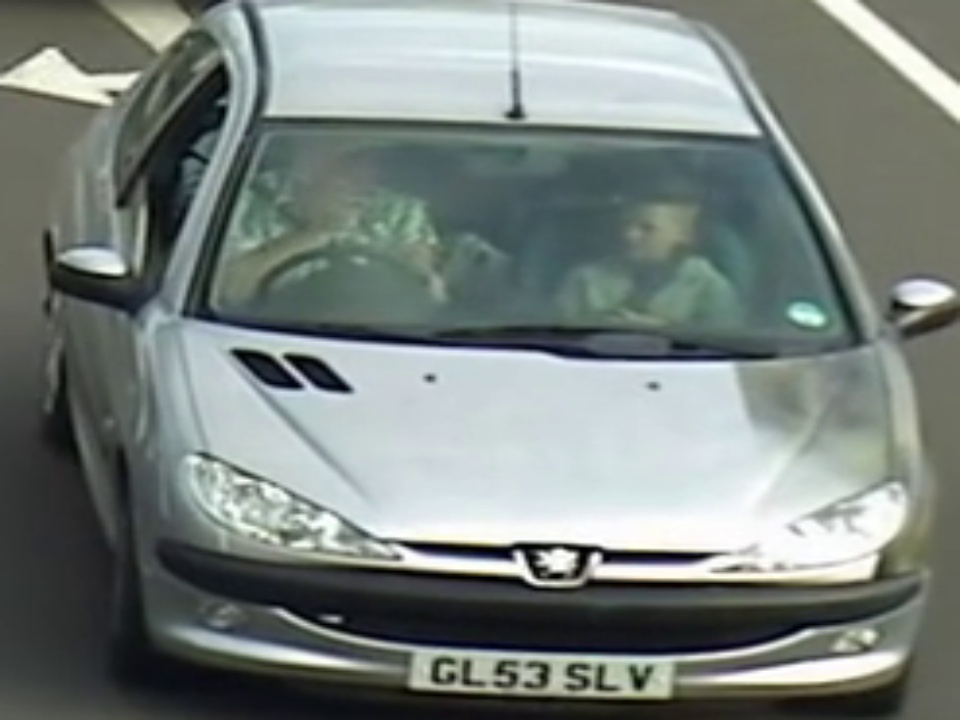TWO: (235, 126, 842, 348)
